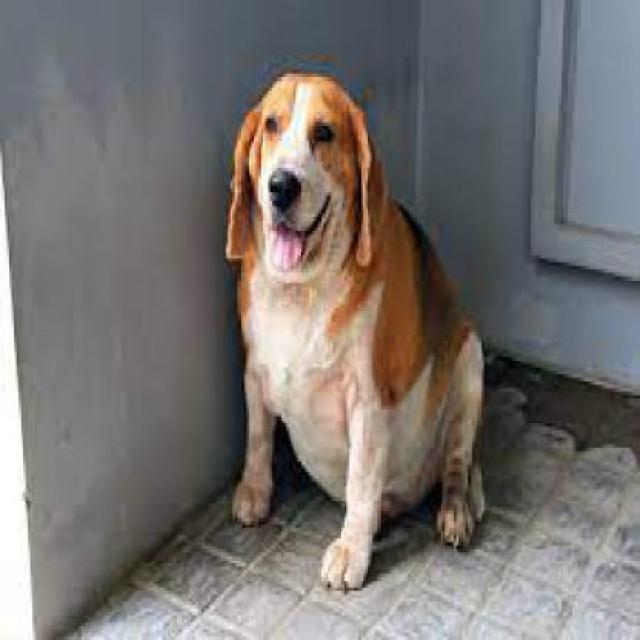Dog: (223, 71, 491, 595)
